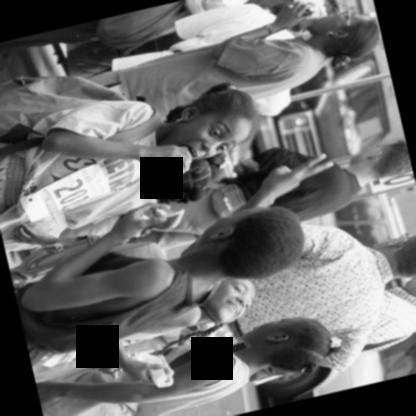backpack: (0, 76, 126, 144)
handbag: (84, 1, 192, 62)
